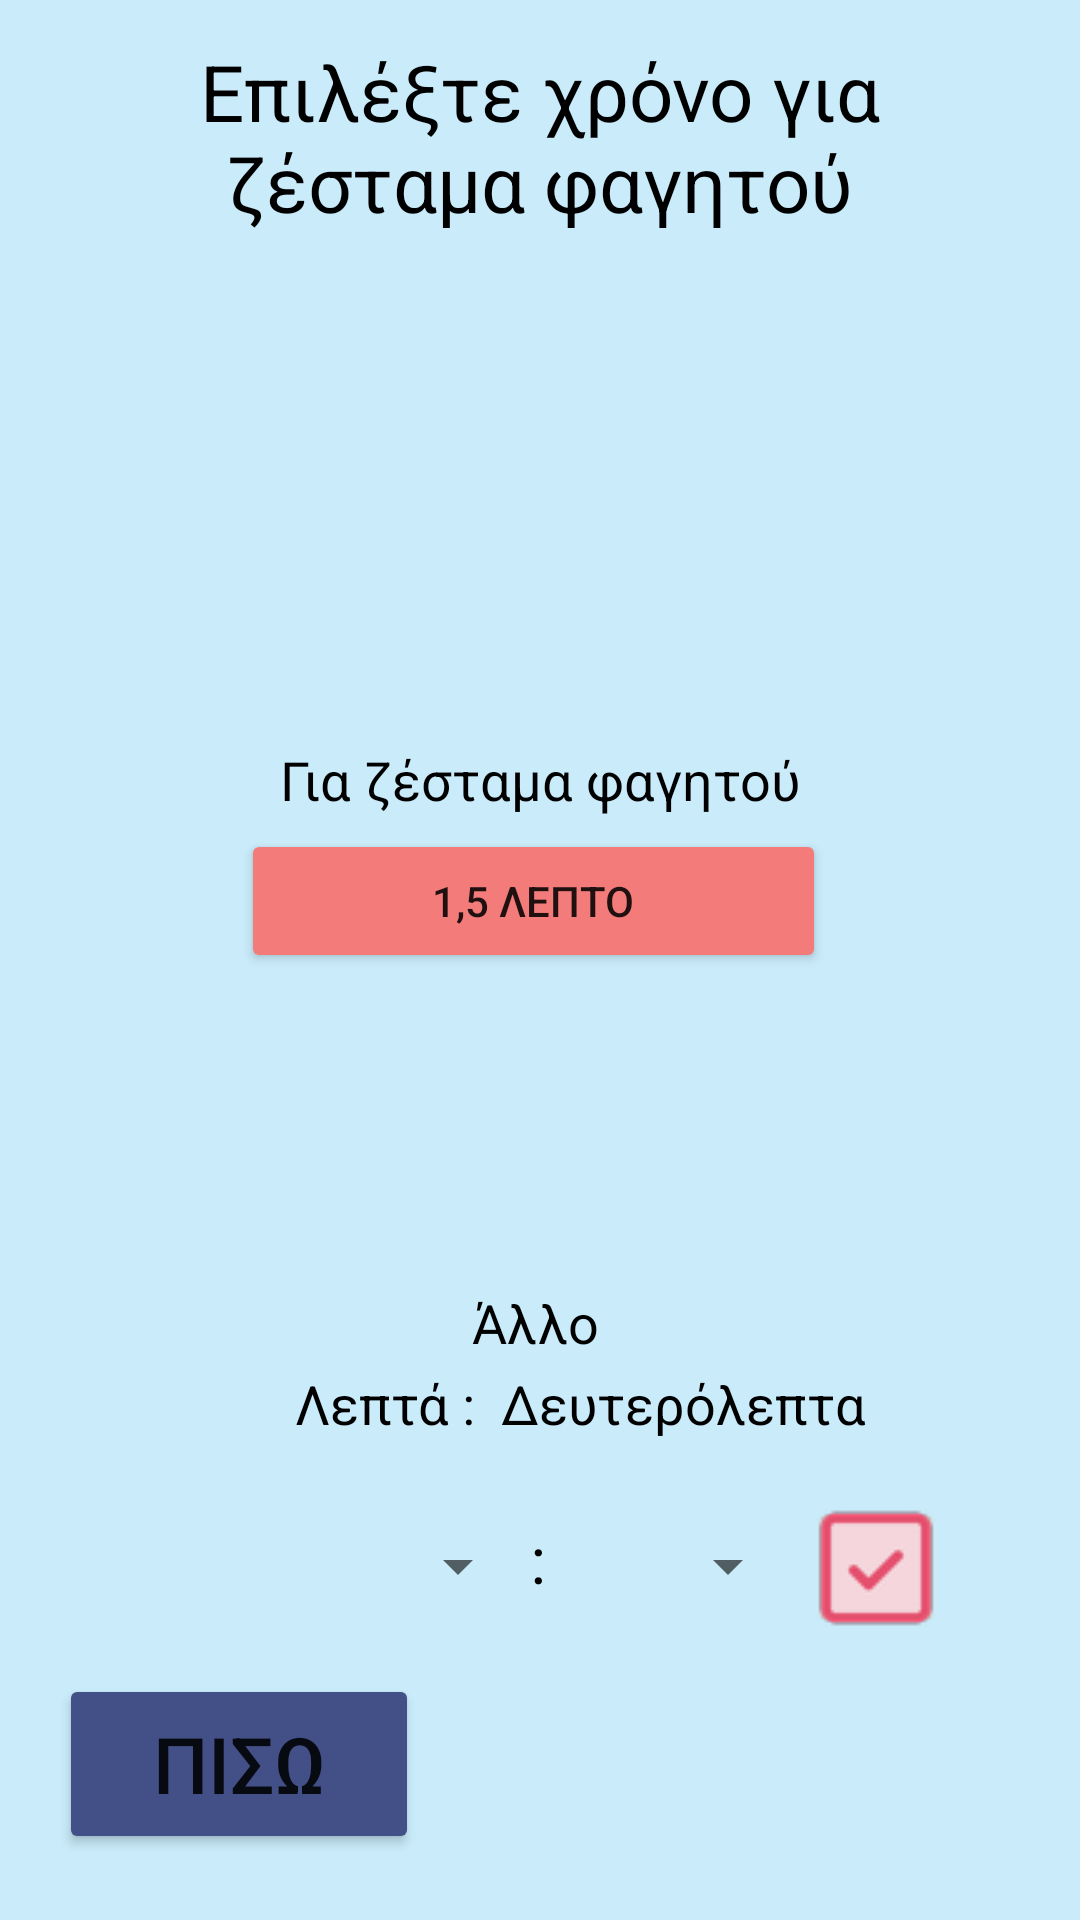

Where icons sit on this 1080×1920 app screen, as (x1, y1, x2, y2):
tick: (819, 1511, 933, 1625)
